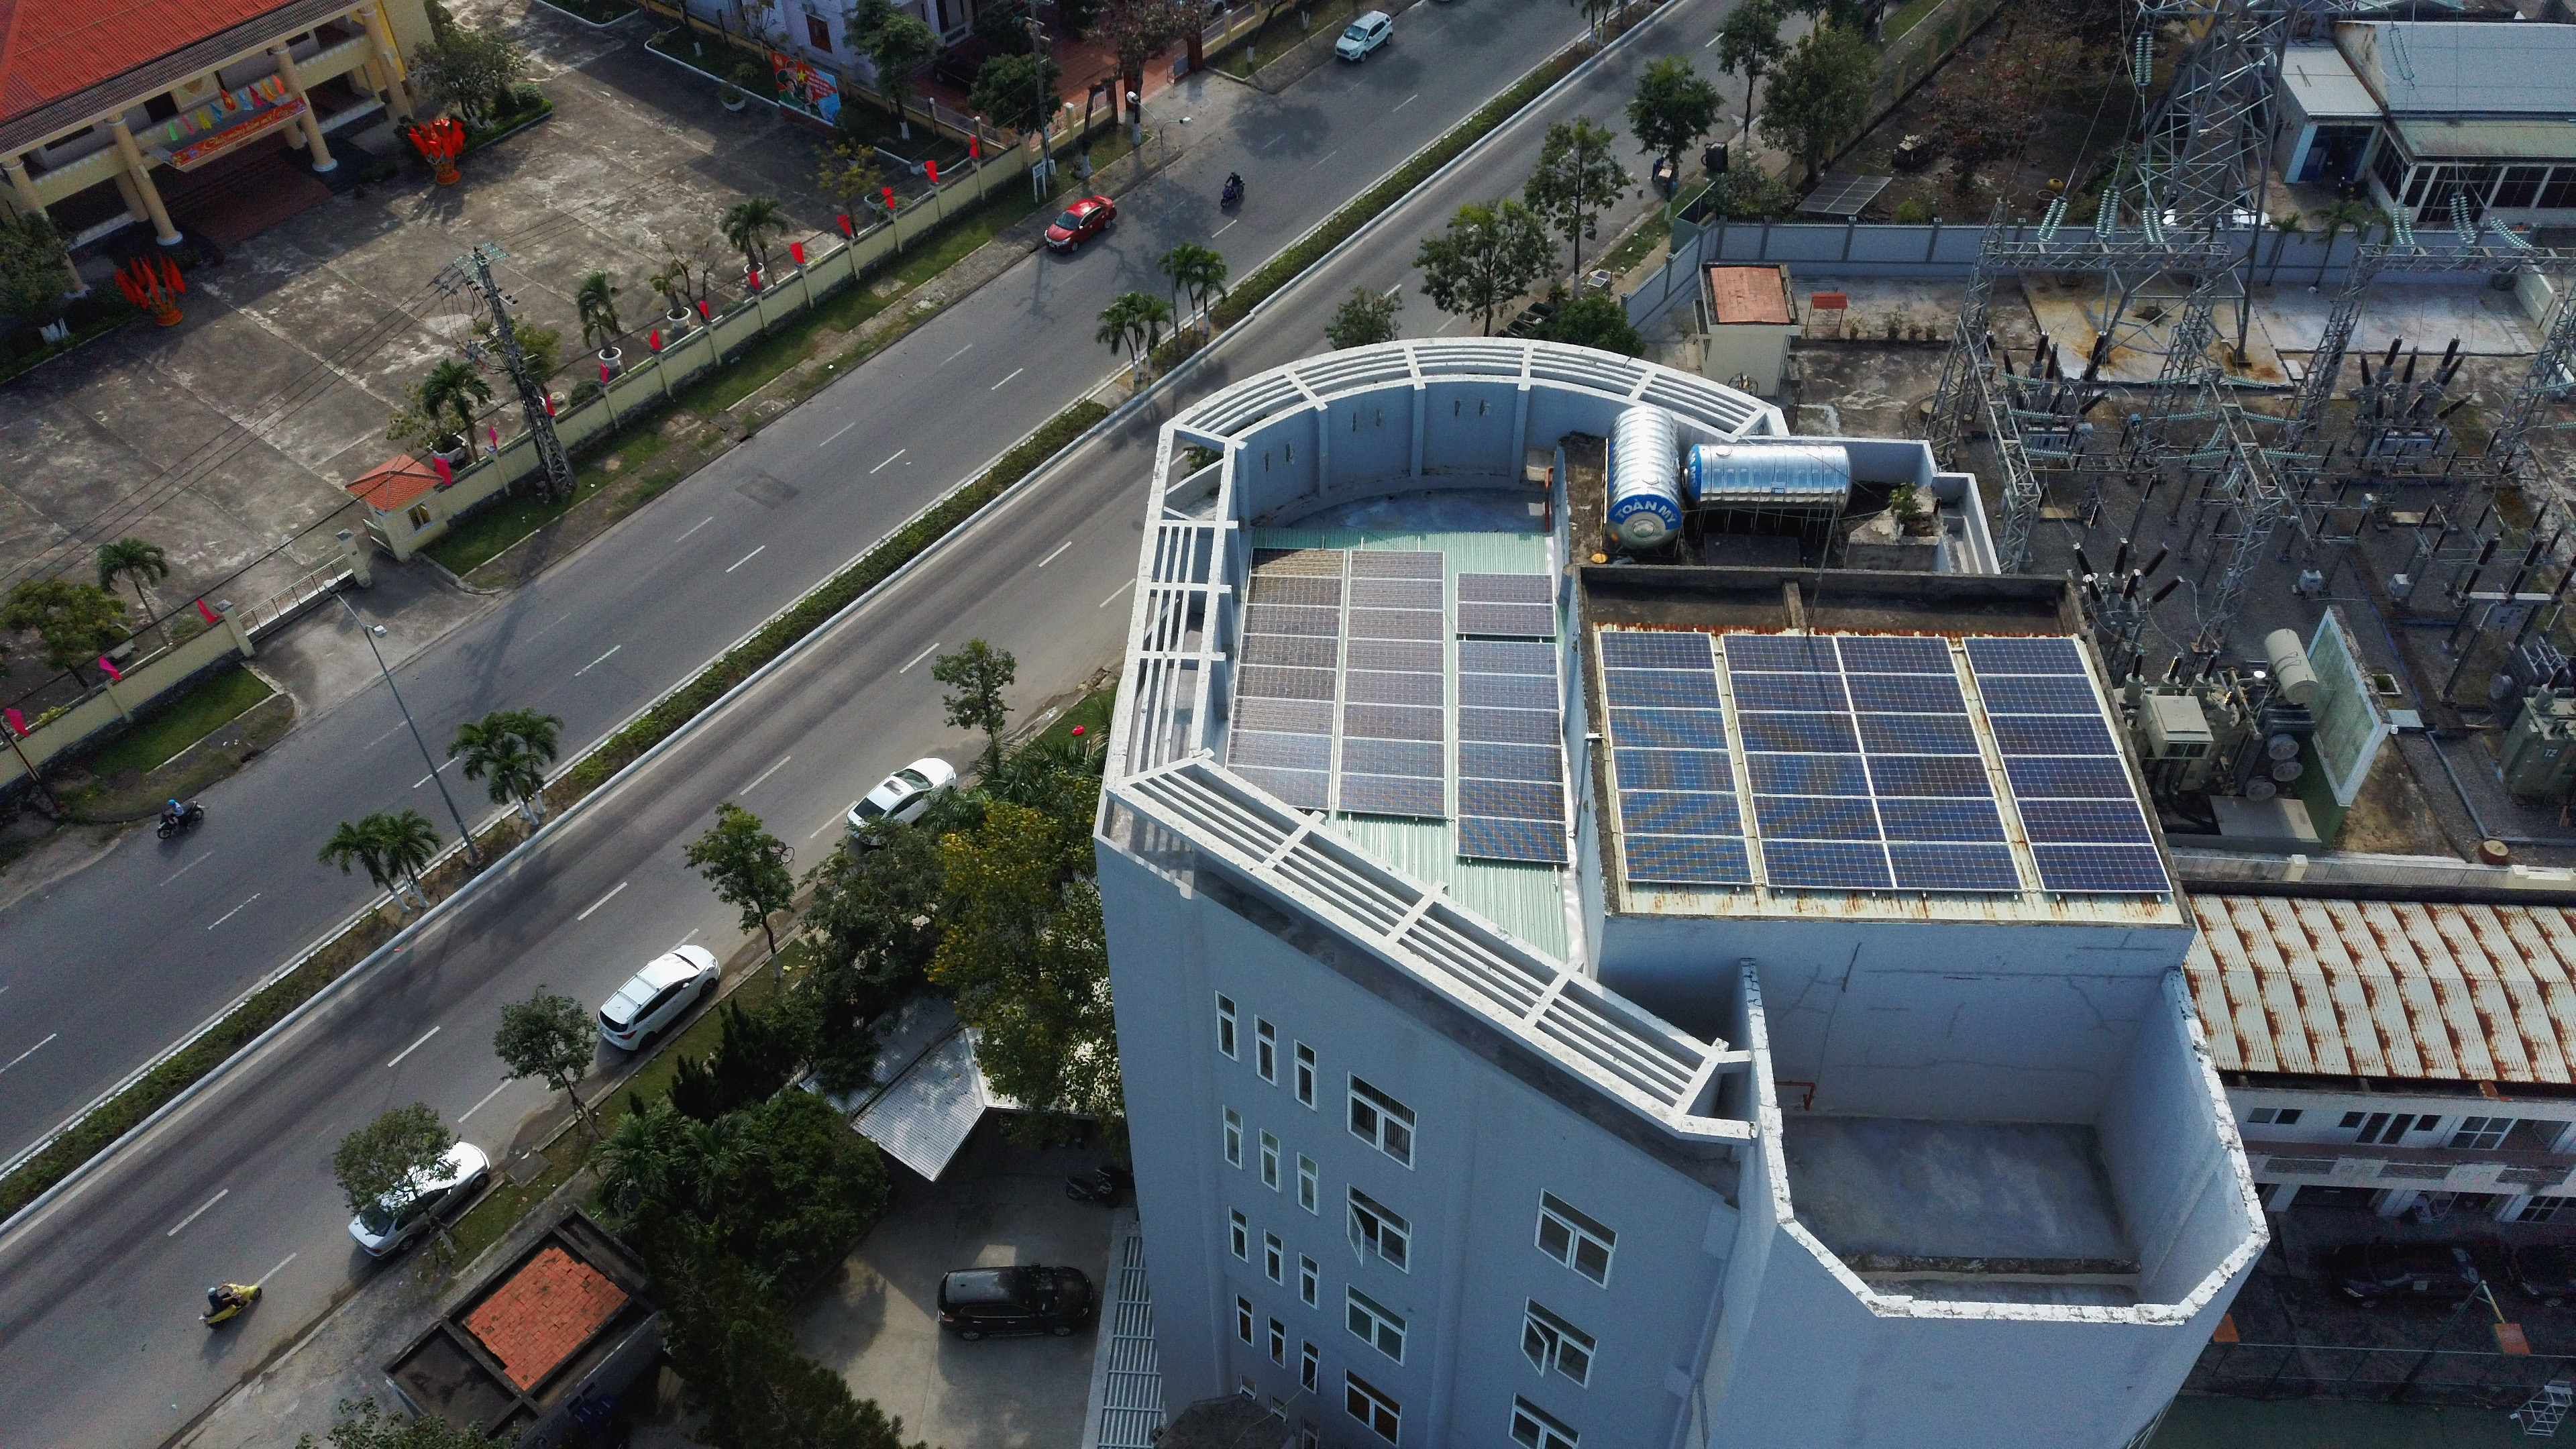solar: (2031, 840, 2178, 893), (2015, 793, 2162, 846), (1999, 748, 2146, 801), (1985, 704, 2132, 757), (1847, 708, 1994, 761), (1851, 747, 1997, 800), (1865, 793, 2012, 846), (1753, 835, 1900, 888), (1730, 701, 1877, 754), (1721, 663, 1868, 717), (1718, 621, 1865, 674), (1591, 621, 1737, 674), (1585, 662, 1732, 715), (1599, 743, 1746, 796), (1967, 626, 2112, 679), (1842, 671, 1987, 724), (1877, 837, 2022, 890), (1744, 791, 1890, 844), (1741, 741, 1886, 794), (1596, 706, 1741, 759), (1603, 791, 1748, 844), (1612, 835, 1757, 888), (1971, 667, 2118, 718), (1829, 628, 1976, 679), (1447, 817, 1571, 867), (1451, 777, 1575, 826), (1445, 741, 1569, 791), (1445, 702, 1569, 752), (1447, 633, 1571, 683), (1445, 598, 1569, 648), (1445, 566, 1569, 616), (1449, 667, 1571, 717), (1343, 571, 1453, 617), (1339, 630, 1449, 676), (1339, 665, 1449, 711), (1338, 695, 1447, 741), (1341, 731, 1451, 777), (1338, 771, 1447, 817), (1221, 763, 1330, 809), (1224, 725, 1334, 771), (1230, 694, 1339, 740), (1343, 600, 1451, 646), (1235, 660, 1343, 706), (1237, 628, 1345, 674), (1244, 538, 1352, 584), (1346, 541, 1456, 586), (1244, 566, 1353, 610), (1235, 605, 1343, 649)
